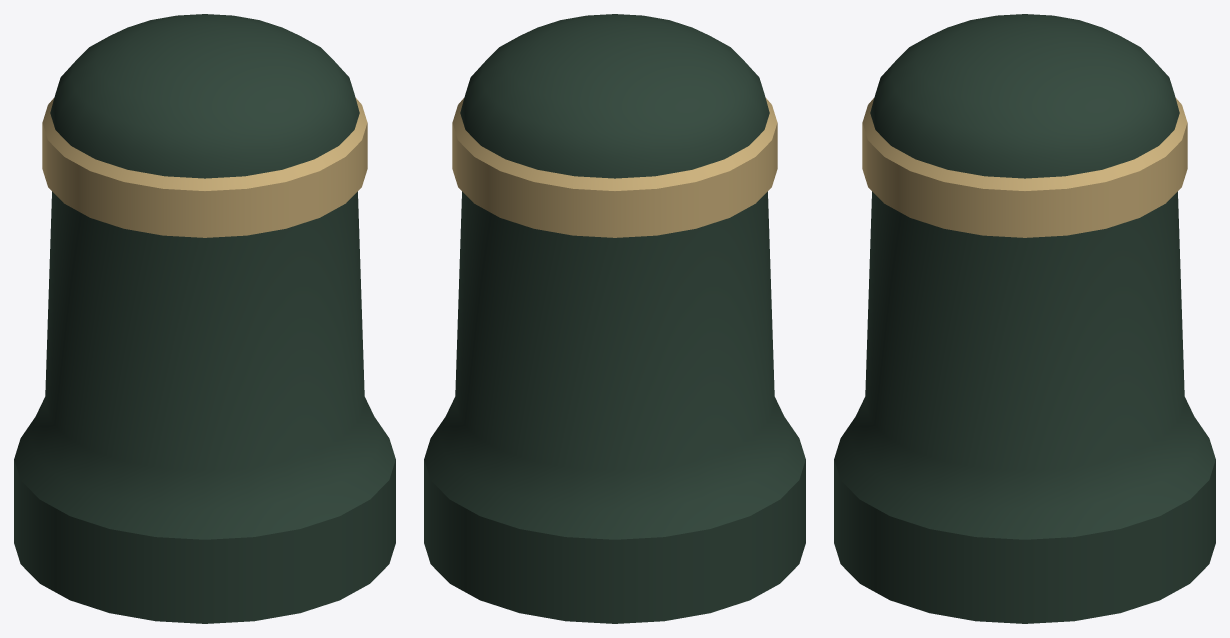
The model's file is TeeMarker.fbx.
3 renders of one model, left to right at view 1: azimuth 30°, elevation 25°; view 2: azimuth 150°, elevation 25°; view 3: azimuth 270°, elevation 25°, orthographic.
Parts seen in each view (by area): view 1: TeeMarker; view 2: TeeMarker; view 3: TeeMarker.
Boxes of the visible parts, left/top/right/bottom form: TeeMarker: left=14, top=14, right=395, bottom=623; TeeMarker: left=424, top=14, right=805, bottom=623; TeeMarker: left=834, top=14, right=1215, bottom=623.
Size of the model in its own units: 0.074 by 0.108 by 0.074.
